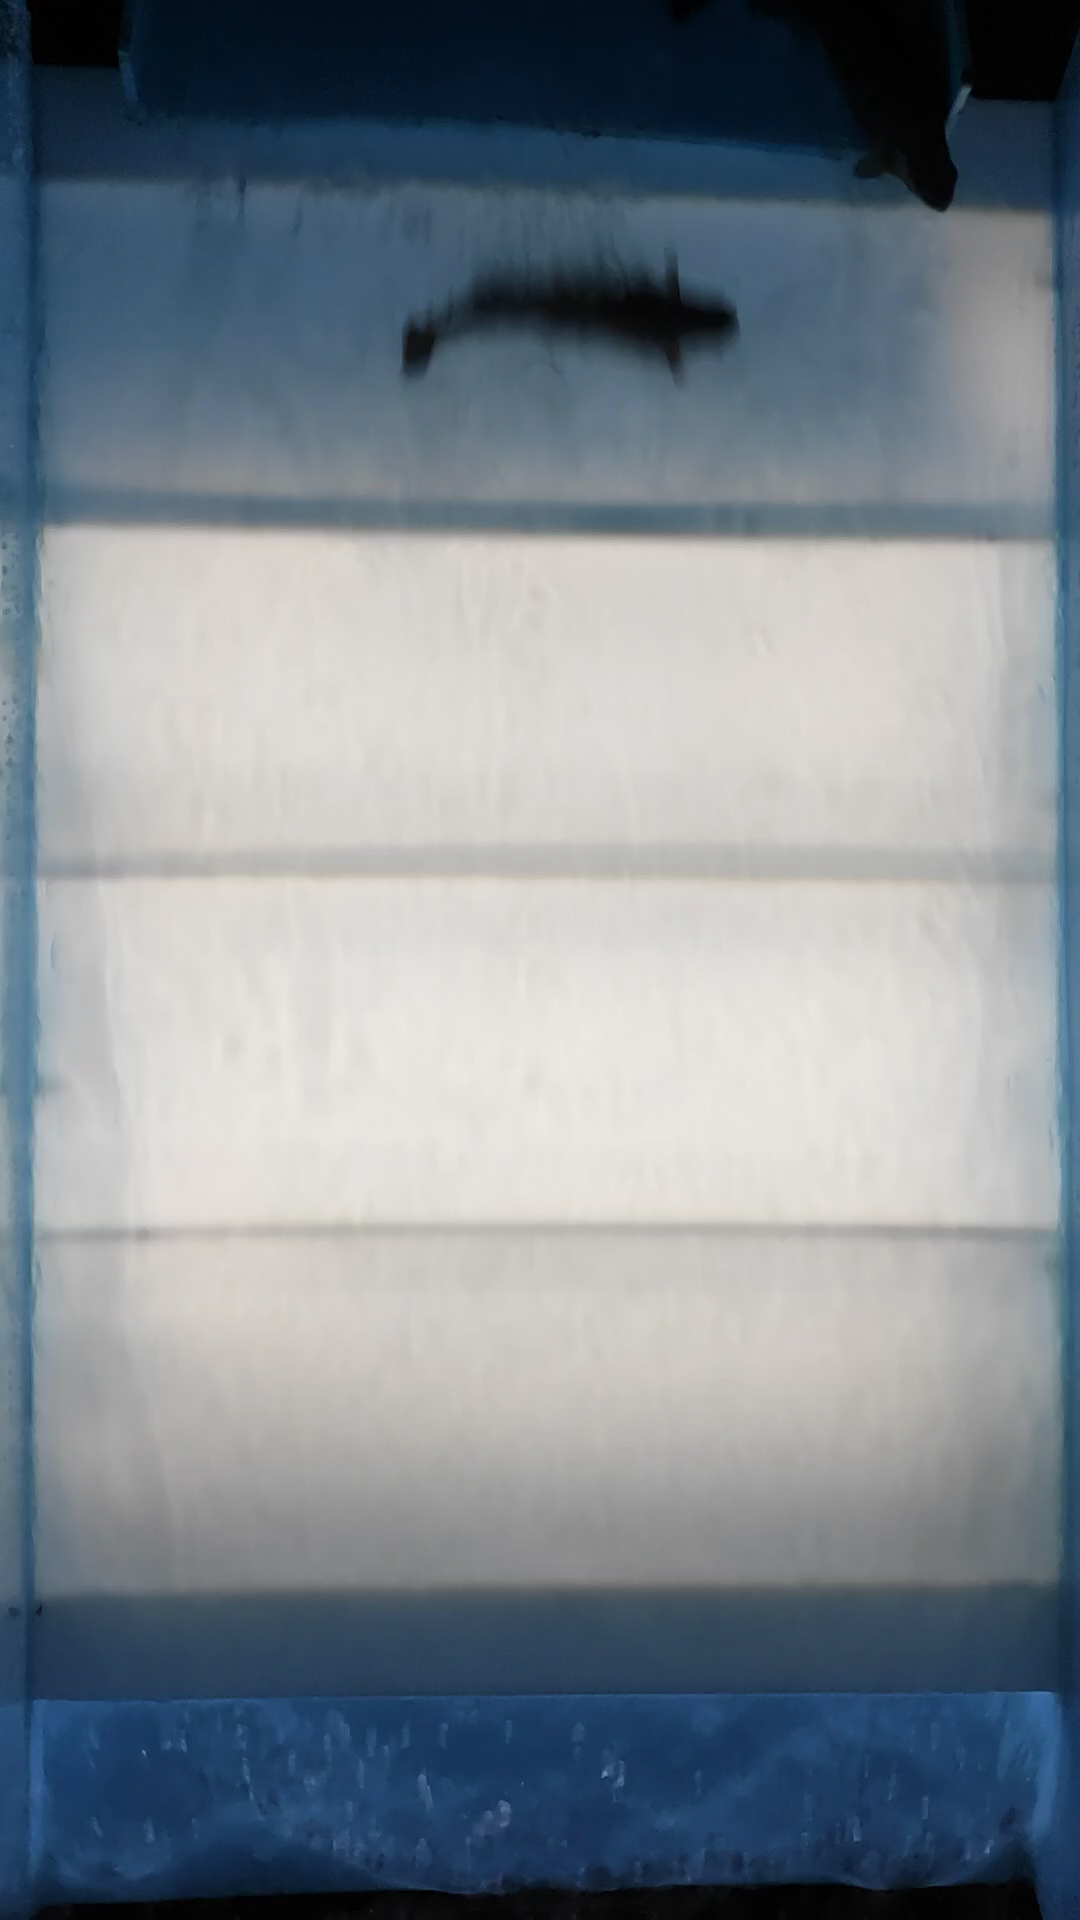fish: (396, 253, 752, 389)
